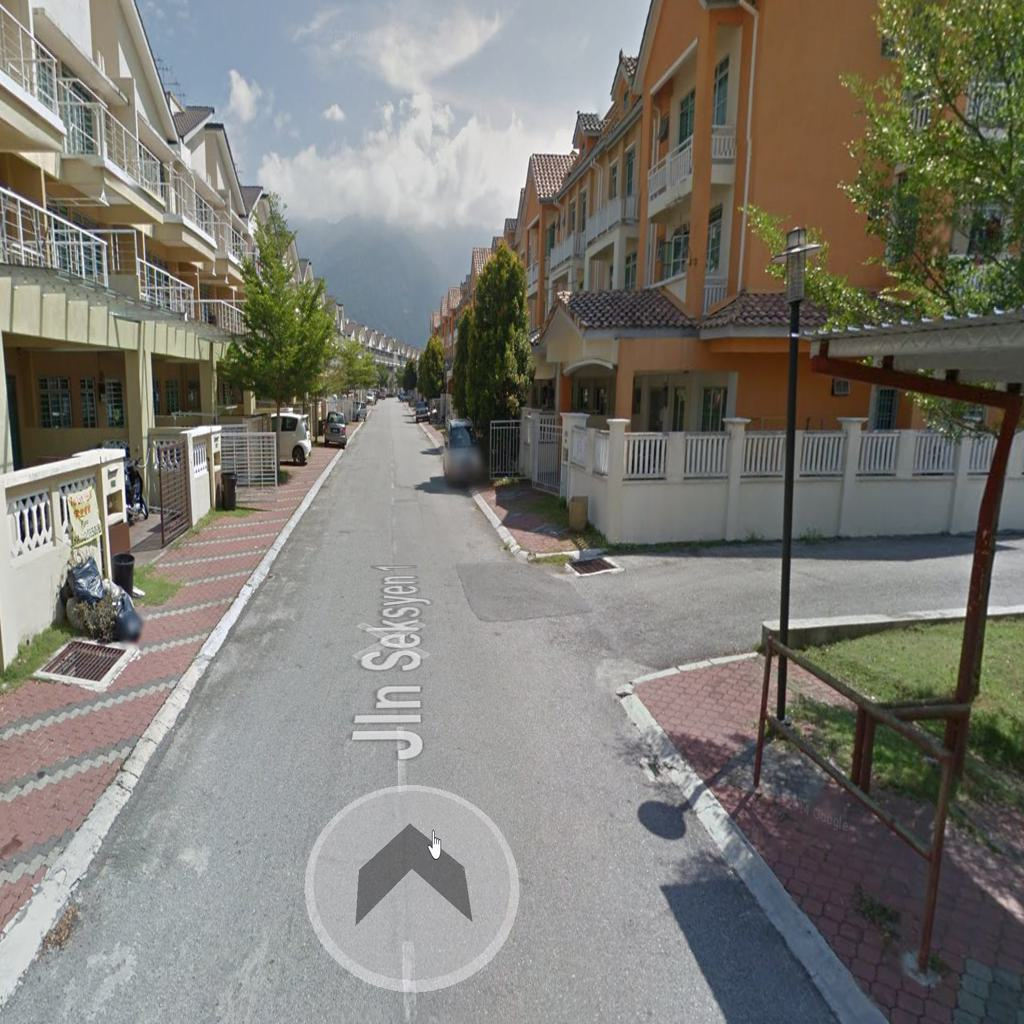Junction: (490, 494, 792, 742)
